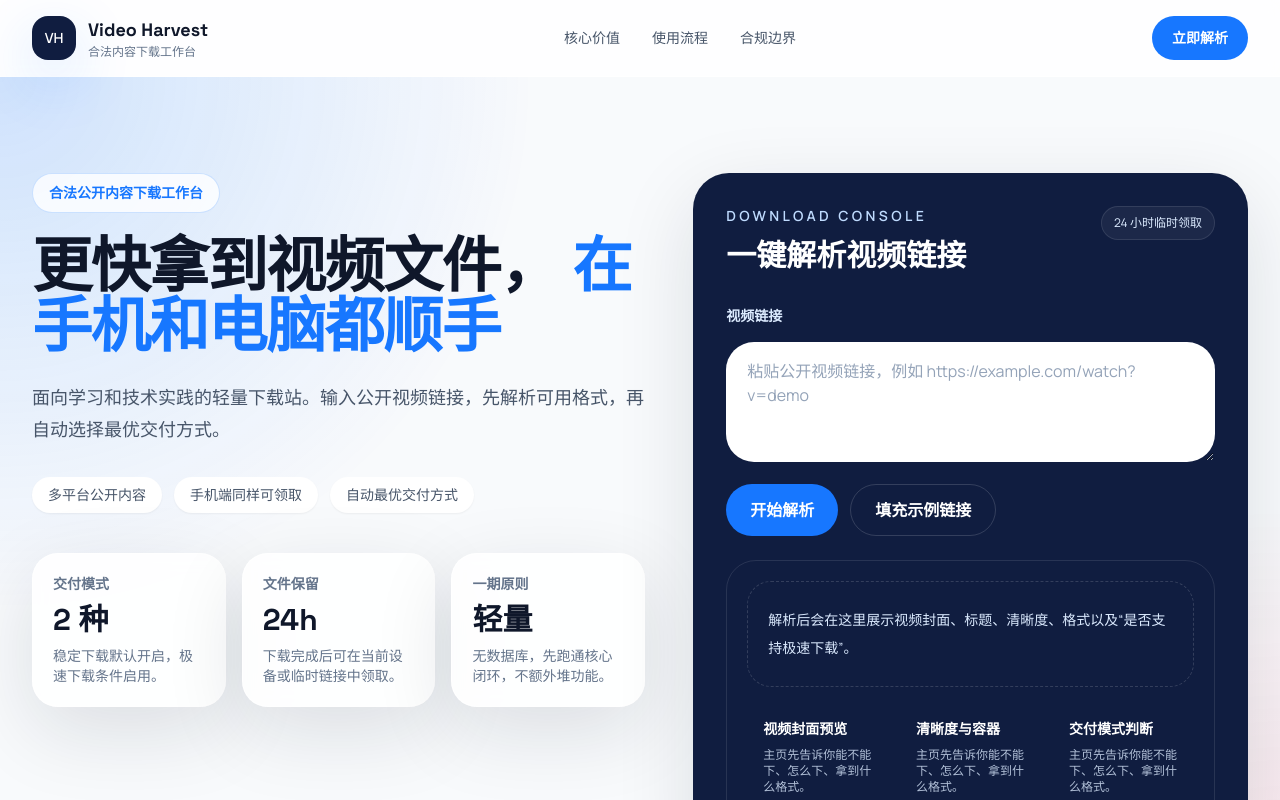
Test: HomeView › parses a link and shows the returned format options
Type "https://example.com/video" into the text box with placeholder "粘贴公开视频链接，例如 https://example.com/watch?v=demo" at (971, 402), box [726,342,1215,462]
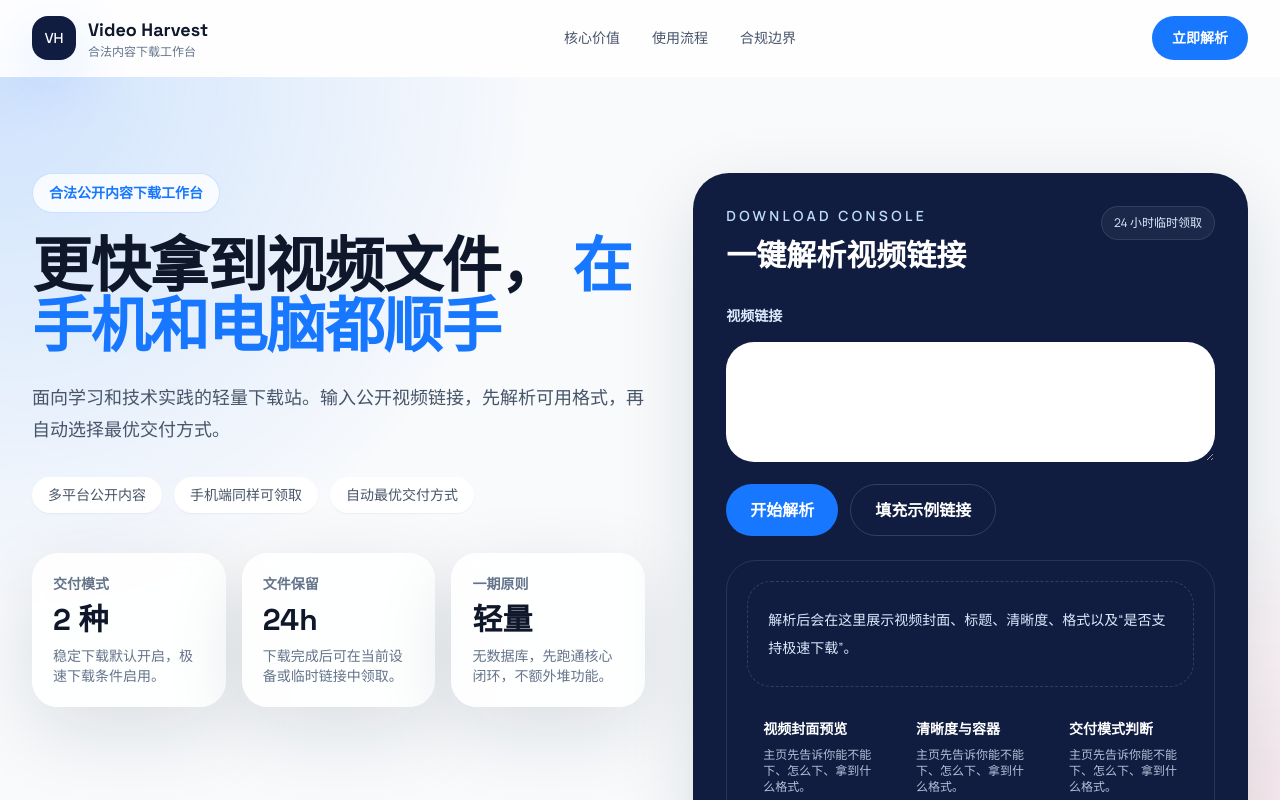
Click the button "开始解析" at (782, 510), box [726,484,838,536]
(page scrolled)
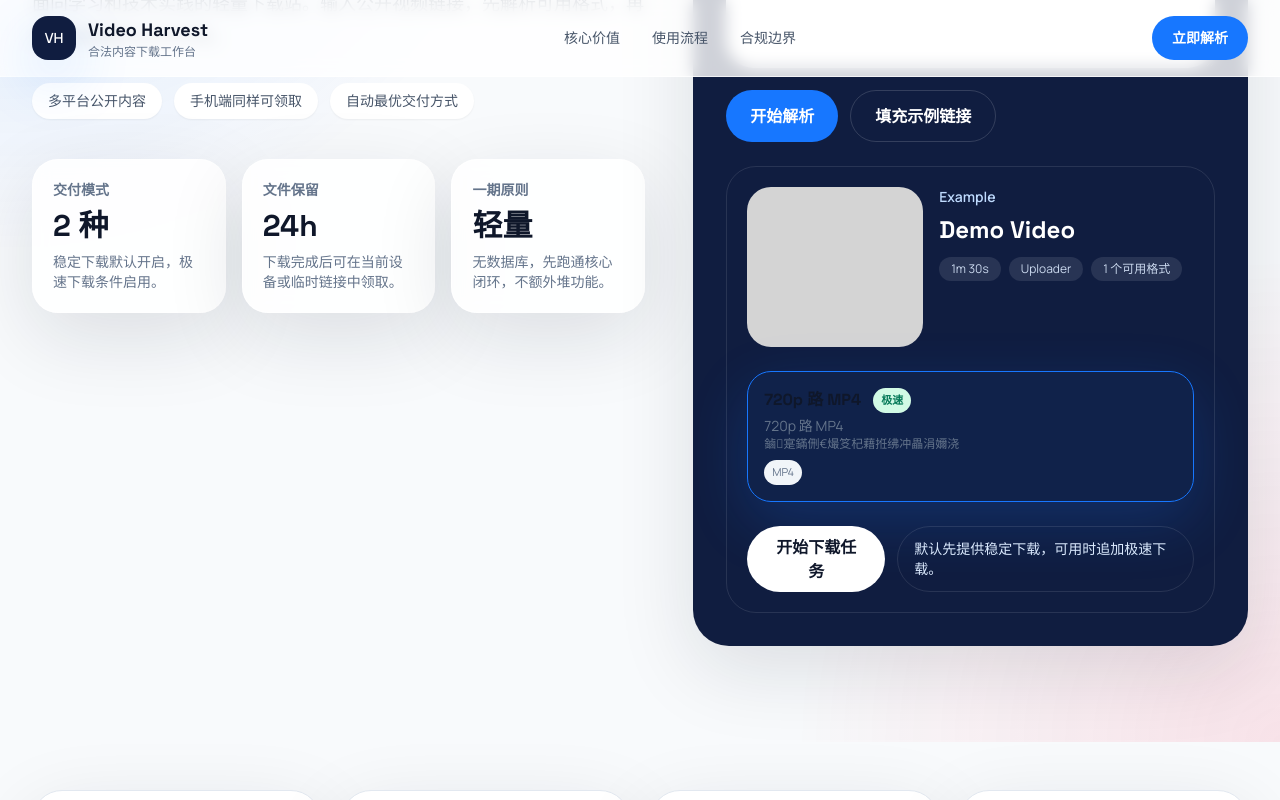
Check: the heading "Demo Video" is shown, box [939,214,1075,245]
Check: the 1st text "720p 路 MP4" is shown, box [764,388,861,412]
